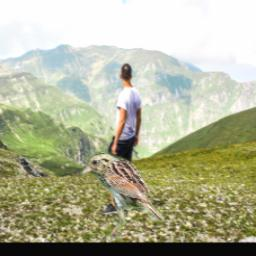Sparrow: (81, 151, 166, 240)
Swallow: (20, 158, 46, 178)
